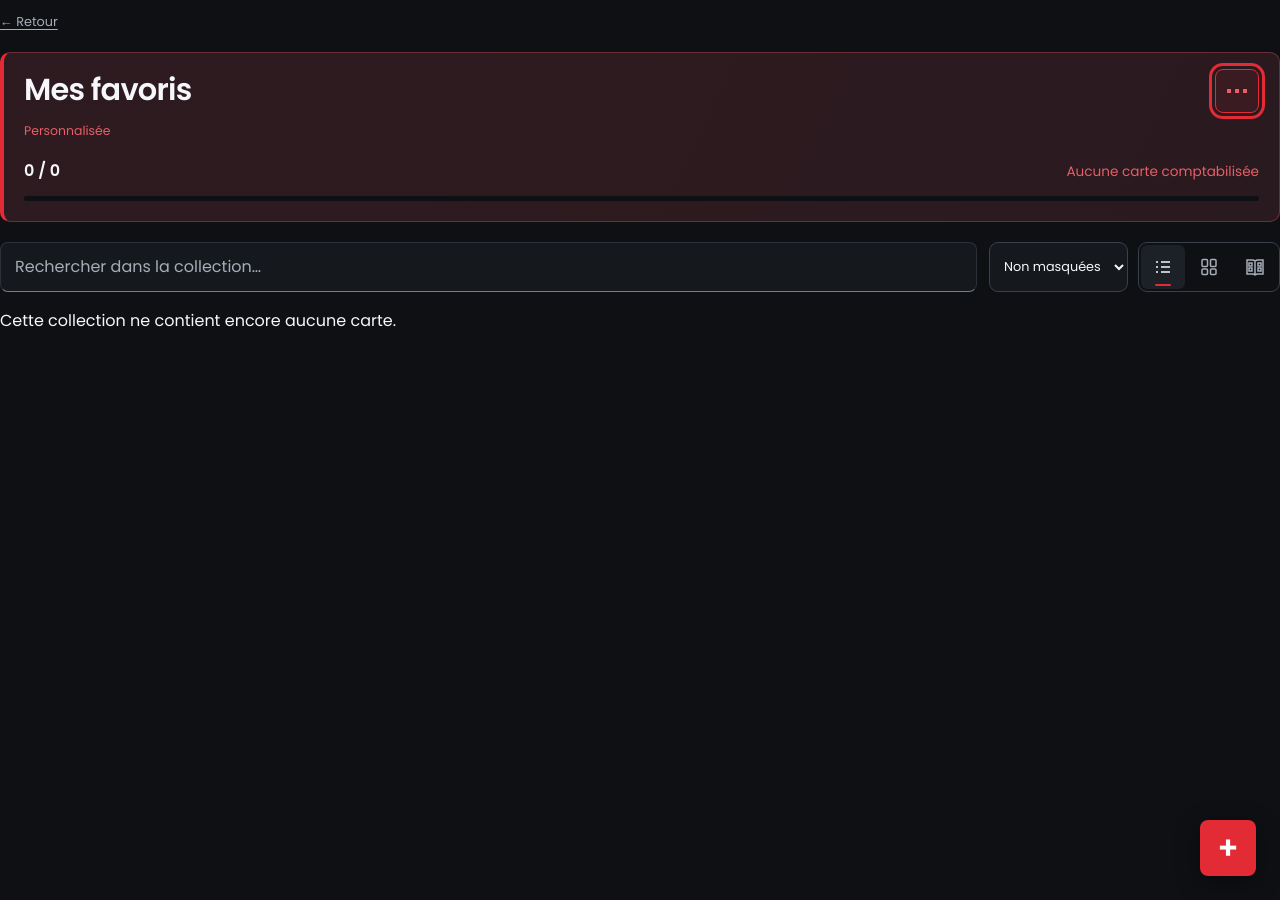
Test: renommage free confirmé, caches exacts, titre et Dashboard
Click the button named "Actions de la collection" at {"x": 1237, "y": 91}, box 1215,69 -> 1259,113
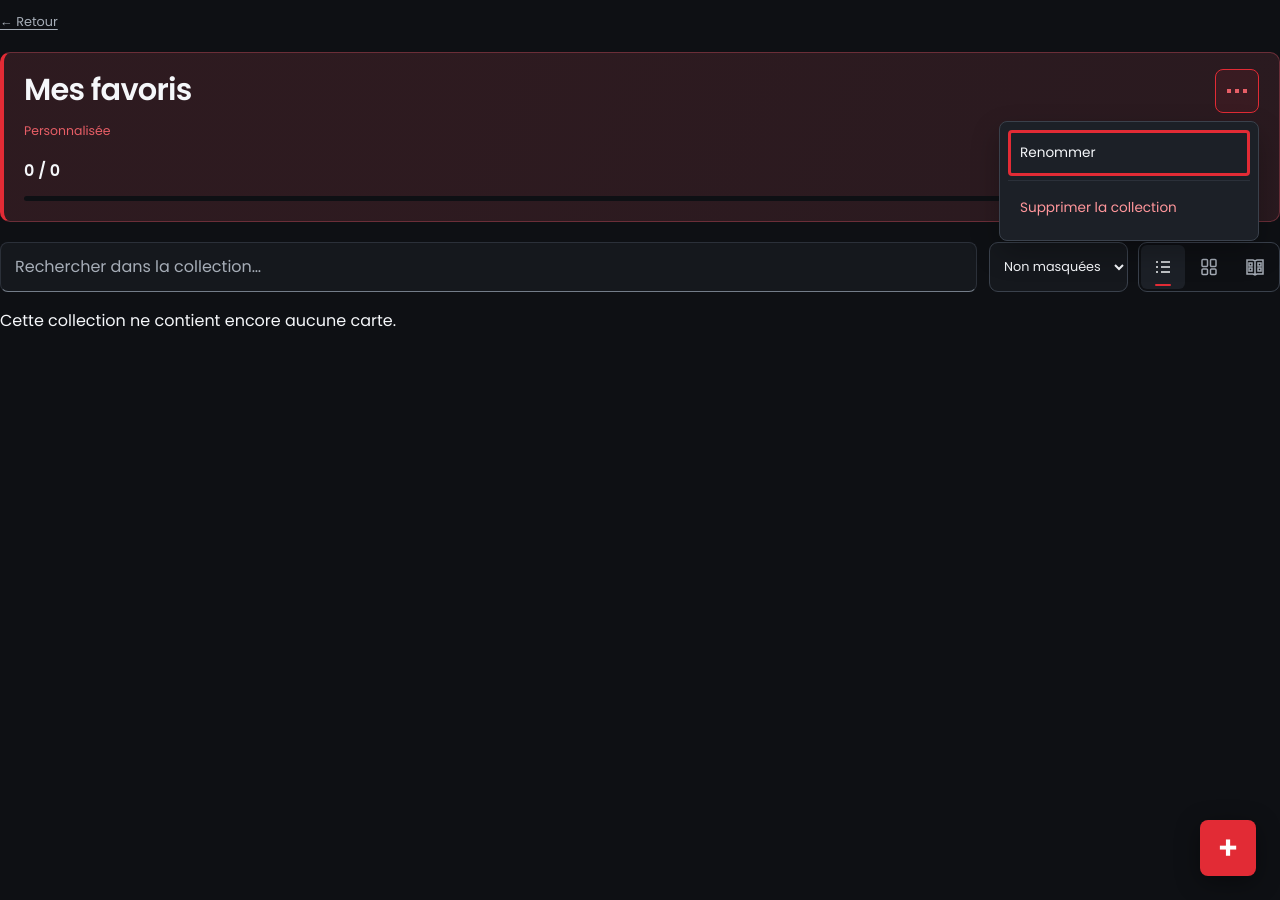
Click the button "Renommer" at {"x": 1129, "y": 153}, box 1008,130 -> 1250,176
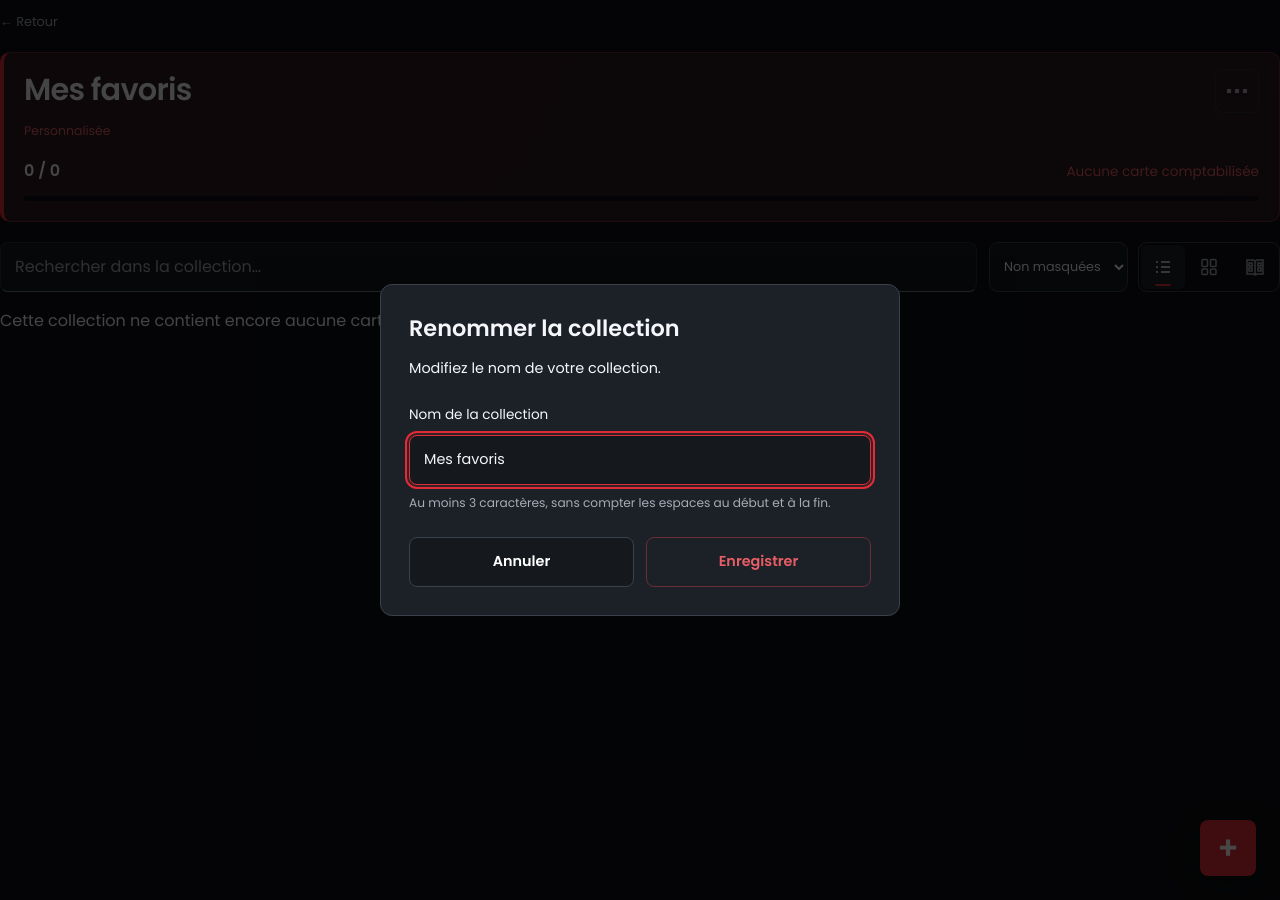
Replace the text in the field labelled "Nom de la collection" with "  Mes nouvelles cartes  " at {"x": 640, "y": 460}, box 409,435 -> 871,485
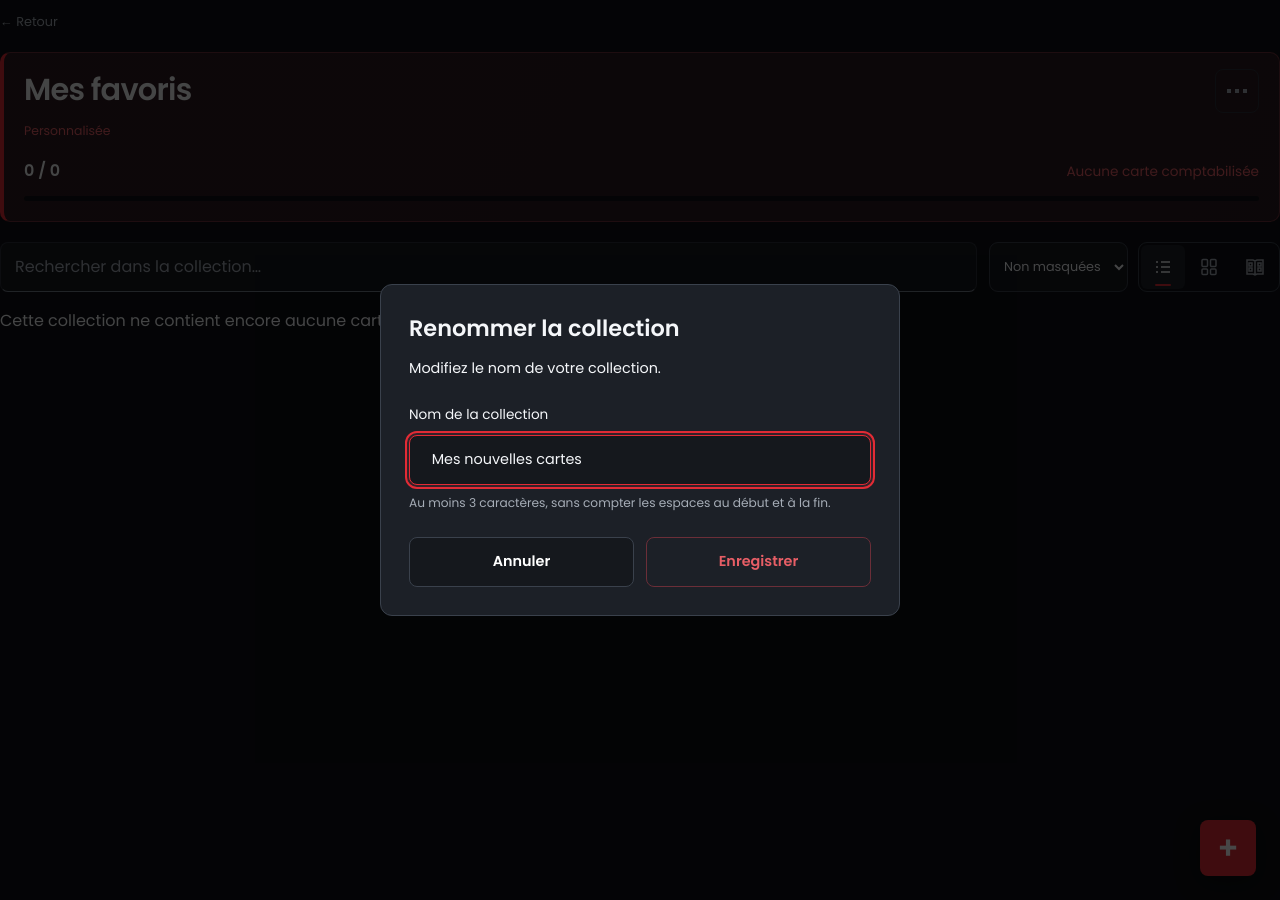
Submit the form, box 409,404 -> 871,587
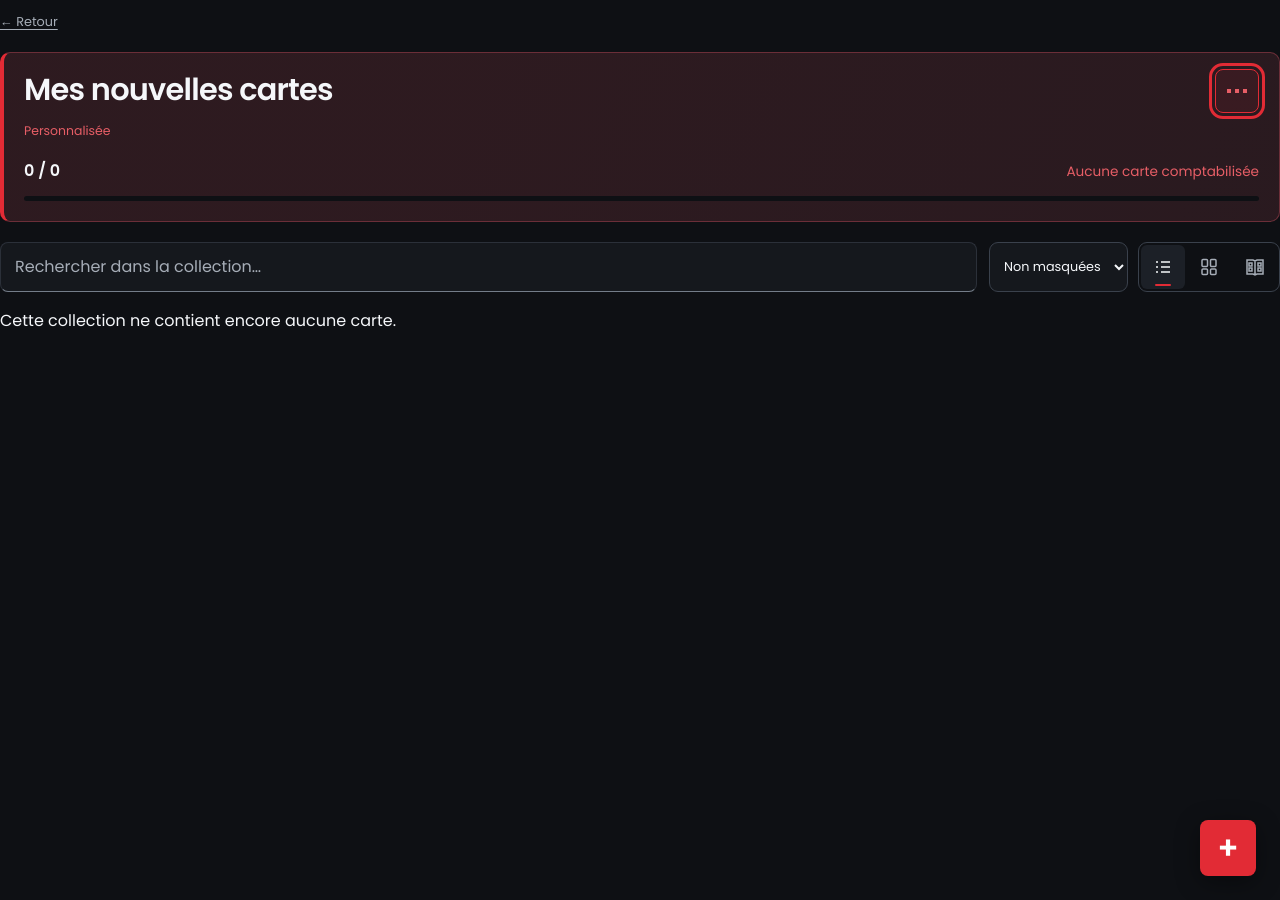
Now the dialog is gone
Now the heading reads "Mes nouvelles cartes", box 24,68 -> 333,111
Click the button "← Retour" at {"x": 29, "y": 22}, box 0,0 -> 58,44
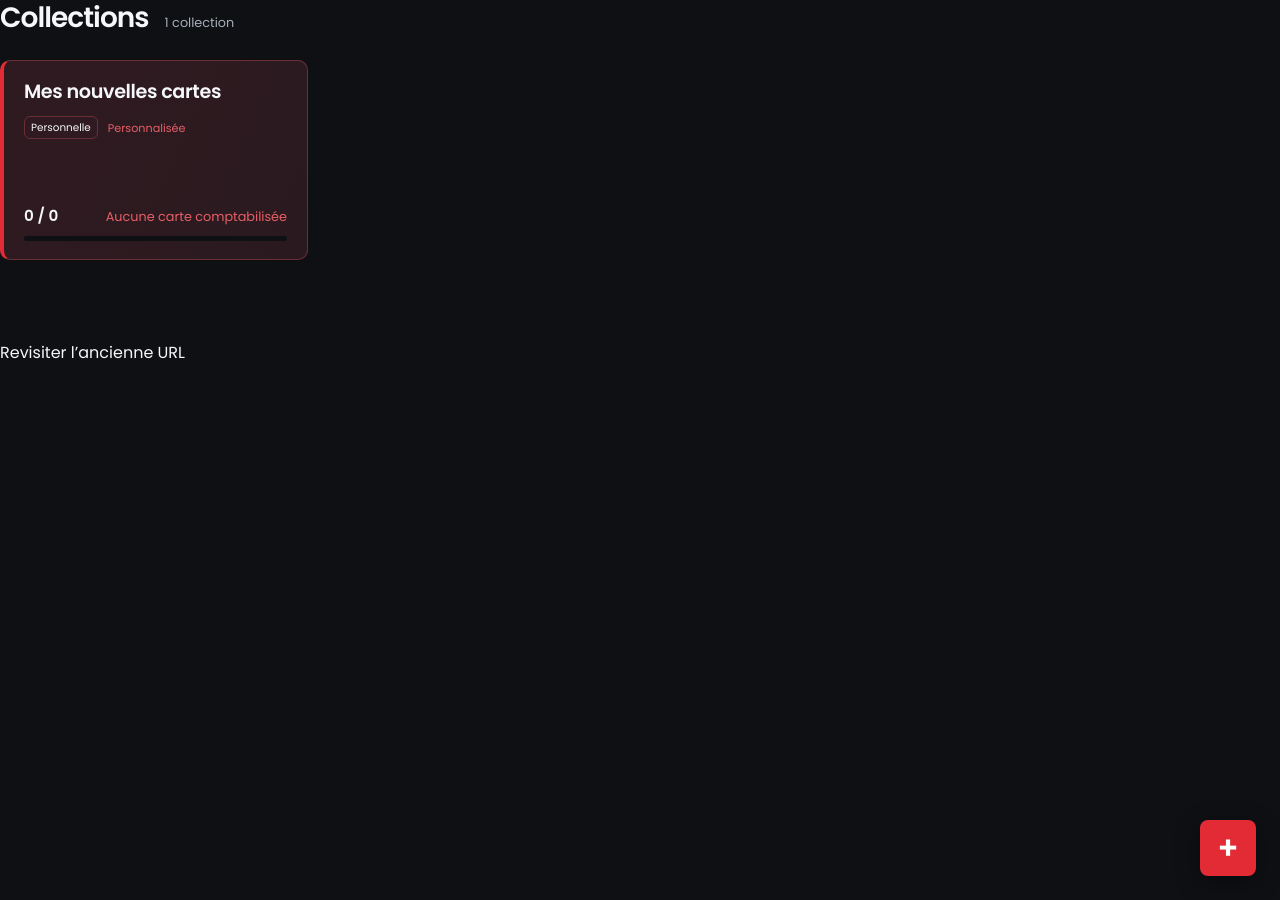
Now the link "Mes nouvelles cartes" is shown, box 0,60 -> 308,260
